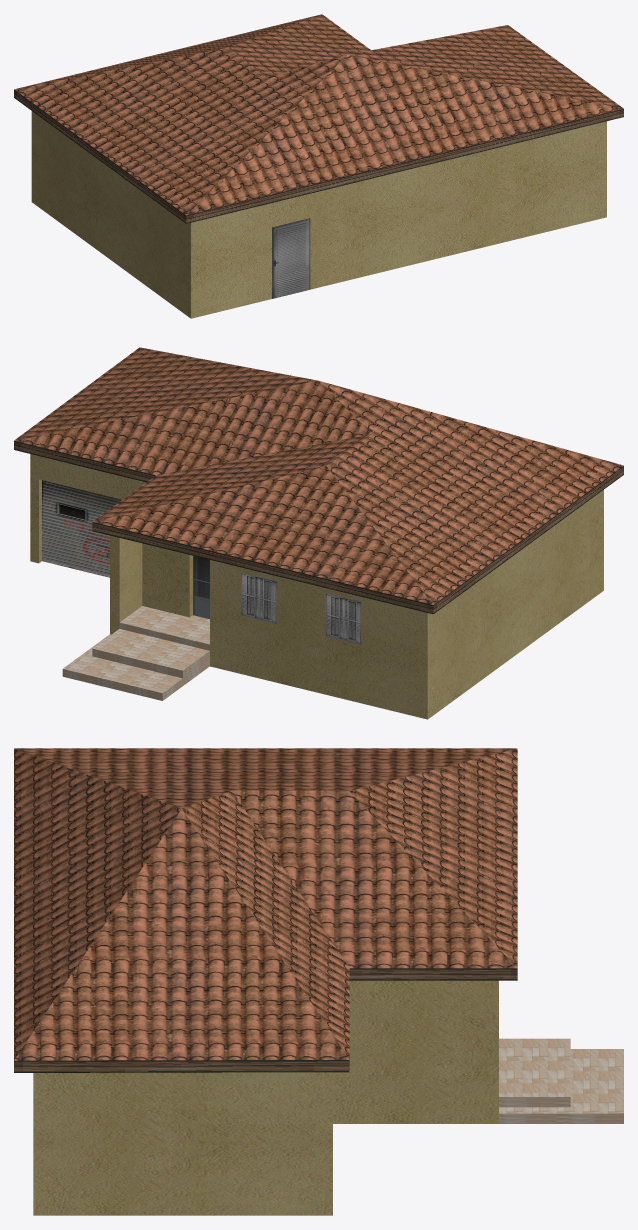
File: compmedhos5_lae.obj
The picture shows the model from 3 angles, top to bottom: view 1: azimuth 30°, elevation 25°; view 2: azimuth 150°, elevation 25°; view 3: azimuth 270°, elevation 25°; orthographic projection. The views are drawn at different scales.
Parts seen in each view (by area): view 1: compmedhos5_LAe; view 2: compmedhos5_LAe; view 3: compmedhos5_LAe.
Part boxes in pixels (bbox=[...]): compmedhos5_LAe: bbox=[14, 14, 623, 318]; compmedhos5_LAe: bbox=[14, 347, 623, 719]; compmedhos5_LAe: bbox=[14, 748, 623, 1215].
Bounding box in the file's own units: 15.35 × 5.91 × 12.67.
